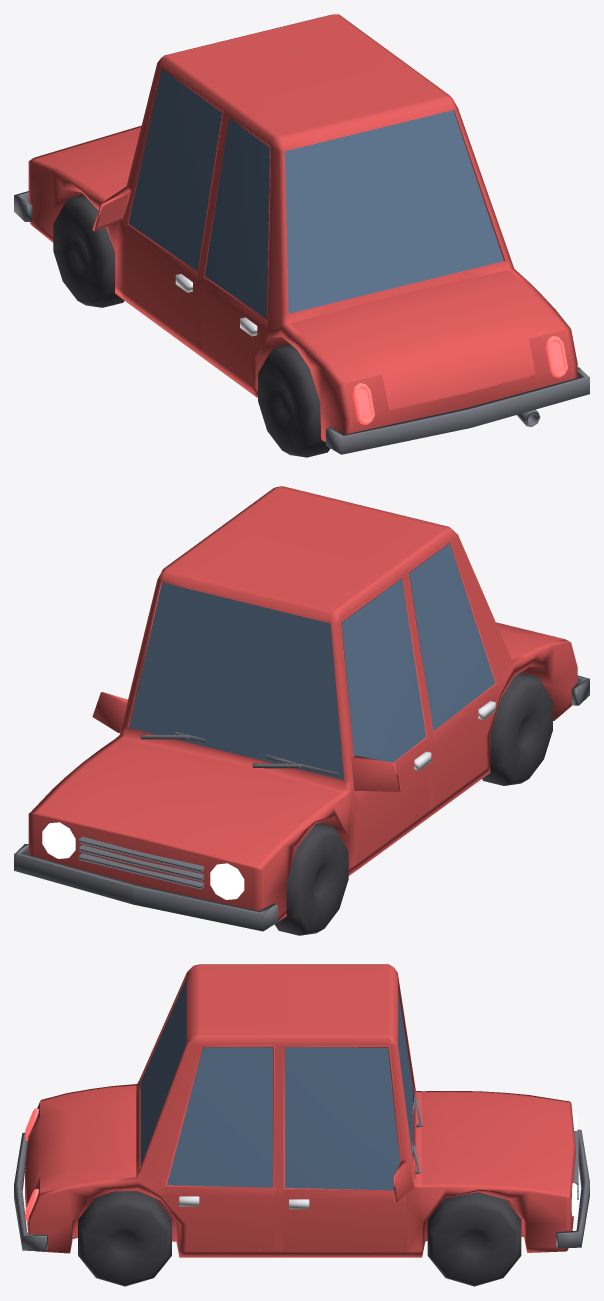
The model's file is cv-sedan.glb.
3 views of the same model, one above another, from view 1: azimuth 30°, elevation 25°; view 2: azimuth 150°, elevation 25°; view 3: azimuth 270°, elevation 25° (orthographic). The views are drawn at different scales.
Parts seen in each view (by area): view 1: CarMesh, WindowRear.1, Trunk, Glass.2, Glass, ID43, WheelRL, BumperBack, WheelFL, ID16, Hood; view 2: CarMesh, WindowFront.1, Hood, Glass.2, Glass, BumperFront, WheelRL, WheelFL, ID43, ID16, Grille, ID336 (+4 smaller); view 3: CarMesh, Glass.4, Hood, Glass.3, Trunk, ID97, WheelRR, WheelFR, ID70, WindowRear.1, BumperBack, BumperFront (+2 smaller).
Part boxes in pixels (x1,y1,x2,y2): CarMesh: (28, 14, 577, 442); WindowRear.1: (284, 110, 503, 313); Trunk: (289, 270, 564, 410); Glass.2: (128, 69, 221, 270); Glass: (204, 118, 269, 318); ID43: (124, 66, 223, 344); WheelRL: (258, 344, 330, 457); BumperBack: (326, 367, 589, 454); WheelFL: (53, 194, 124, 307); ID16: (201, 115, 270, 385); Hood: (37, 128, 140, 198); CarMesh: (28, 486, 577, 931); WindowFront.1: (129, 582, 344, 780); Hood: (37, 739, 341, 865); Glass.2: (341, 578, 426, 762); Glass: (409, 543, 495, 730); BumperFront: (14, 844, 277, 931); WheelRL: (482, 672, 552, 785); WheelFL: (274, 823, 348, 935); ID43: (340, 575, 429, 862); ID16: (407, 540, 500, 805); Grille: (79, 836, 203, 889); ID336: (92, 692, 401, 791); CarMesh: (25, 964, 575, 1257); Glass.4: (285, 1047, 400, 1190); Hood: (422, 1092, 570, 1194); Glass.3: (167, 1047, 272, 1187); Trunk: (25, 1085, 136, 1203); ID97: (283, 1045, 406, 1251); WheelRR: (78, 1191, 171, 1286); WheelFR: (427, 1192, 521, 1286); ID70: (161, 1045, 274, 1250); WindowRear.1: (140, 978, 186, 1166); BumperBack: (14, 1132, 47, 1251); BumperFront: (556, 1129, 589, 1248).
Size of the model in its own units: 2.19 by 1.9 by 4.16.
